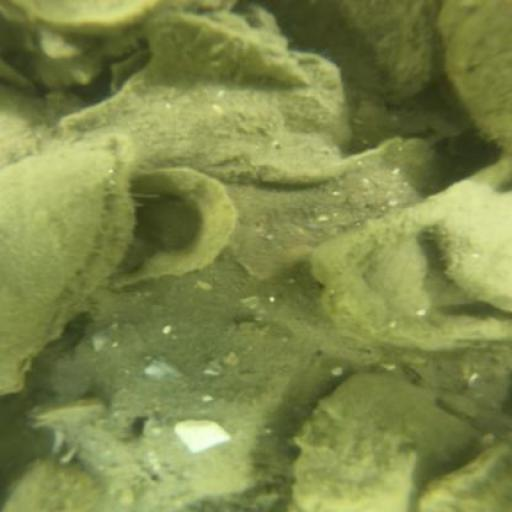Oyster-Closed: (50, 315, 308, 505), (56, 59, 347, 185), (2, 137, 138, 387), (232, 137, 444, 276), (294, 373, 471, 507), (275, 3, 433, 106), (144, 15, 312, 86), (446, 1, 509, 146), (438, 185, 505, 311), (419, 436, 511, 512)
